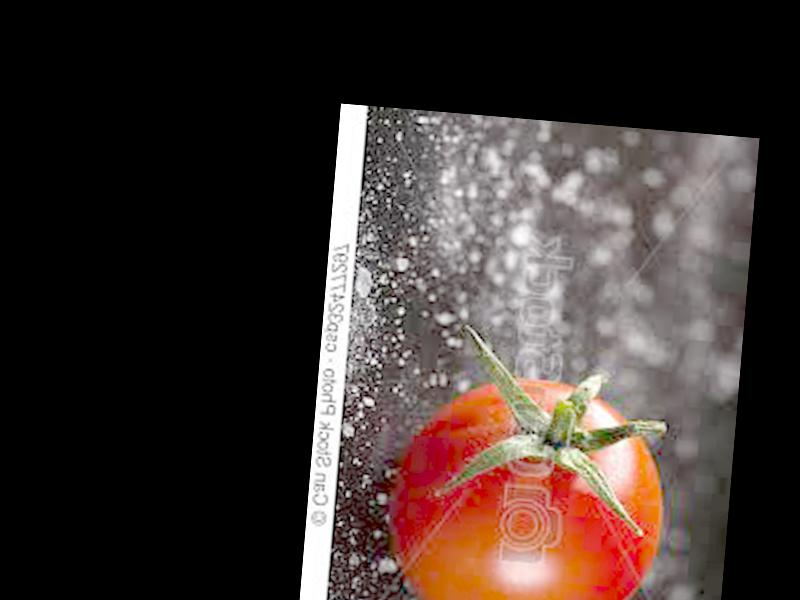Tomato: (383, 368, 673, 600)
